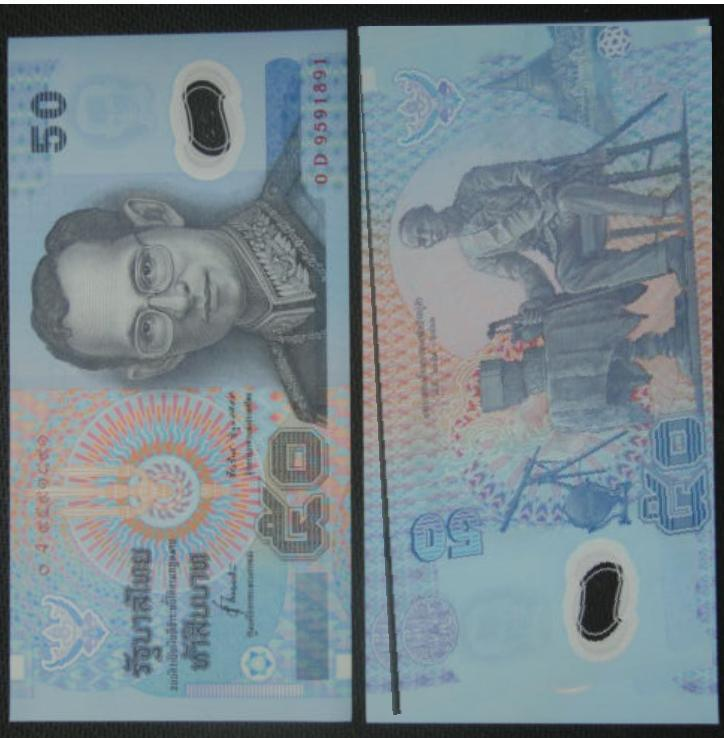50BahtTai: (358, 27, 713, 716)
